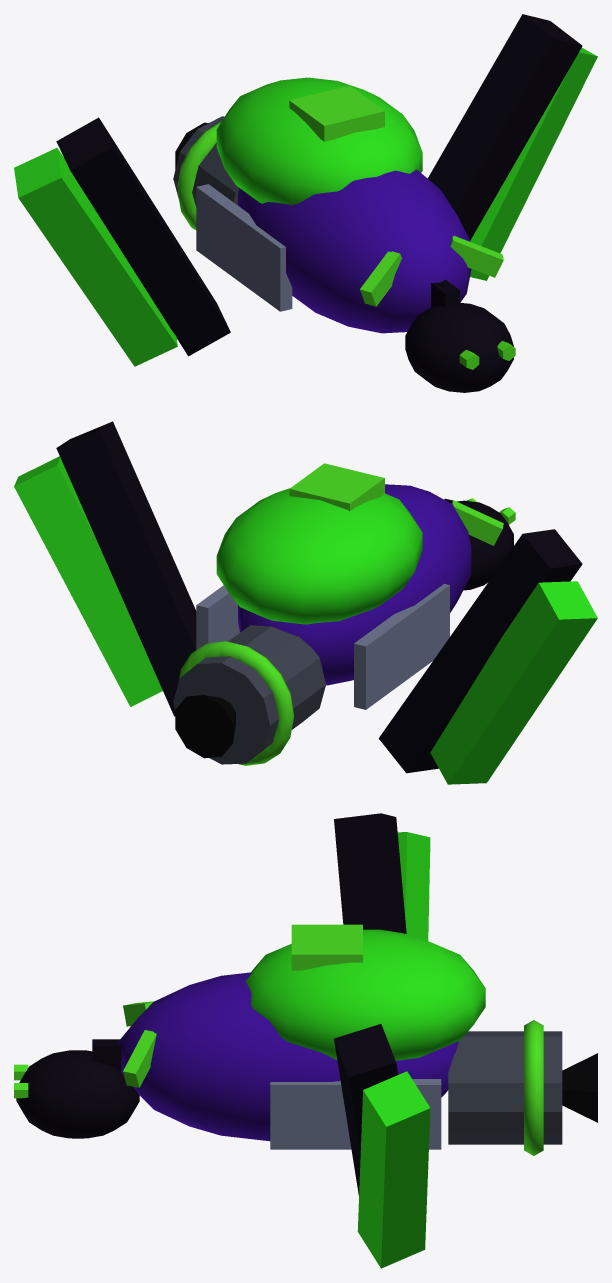
The model's file is Enemy_skimmer.fbx.
3 views of the same model, one above another, from view 1: azimuth 30°, elevation 25°; view 2: azimuth 150°, elevation 25°; view 3: azimuth 270°, elevation 25° (orthographic).
Parts seen in each view (by area): view 1: Enemy_skimmer; view 2: Enemy_skimmer; view 3: Enemy_skimmer.
Part boxes in pixels (x1,y1,x2,y2): Enemy_skimmer: (14,14,597,392); Enemy_skimmer: (14,421,597,784); Enemy_skimmer: (14,813,597,1268).
Bounding box in the file's own units: 0.9567 × 0.4071 × 0.82.
